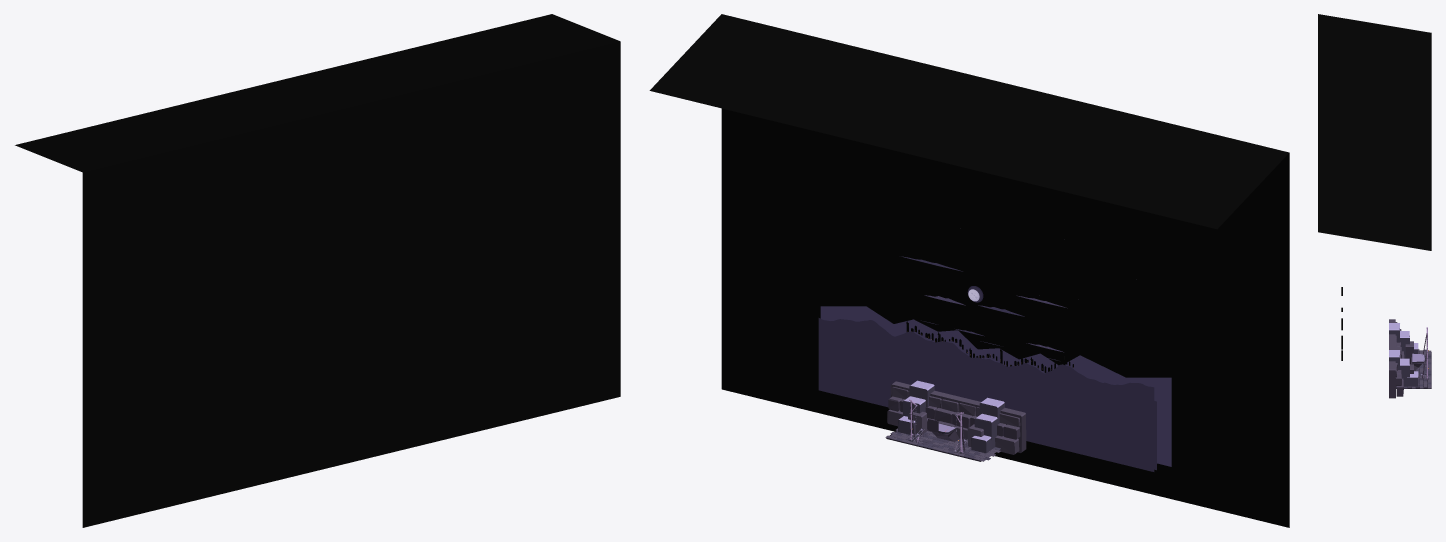
File: StoneCg_v3p.fbx
The picture shows the model from 3 angles, left to right: view 1: azimuth 30°, elevation 25°; view 2: azimuth 150°, elevation 25°; view 3: azimuth 270°, elevation 25°; orthographic projection. The views are drawn at different scales.
Parts seen in each view (by area): view 1: far_sky, far_sky_overhead; view 2: far_sky, far_sky_overhead, city_foreground_hill, far_ridge_back, floor_pavers, mid_wall_recess; view 3: far_sky_overhead, floor_pavers, mid_wall_recess, mid_shoulder_left_1, mid_shoulder_right_1, mid_shoulder_right_0, mid_shoulder_left_2, mid_shoulder_left_0.
Boxes of the visible parts, x1,y1,x2,y2 form: far_sky: (82, 41, 620, 527); far_sky_overhead: (15, 14, 619, 172); far_sky: (721, 108, 1289, 527); far_sky_overhead: (649, 14, 1289, 229); city_foreground_hill: (818, 318, 1154, 471); far_ridge_back: (820, 306, 1171, 466); floor_pavers: (885, 428, 1000, 461); mid_wall_recess: (890, 381, 1026, 452); far_sky_overhead: (1318, 14, 1431, 250); floor_pavers: (1404, 349, 1431, 388); mid_wall_recess: (1389, 319, 1395, 398); mid_shoulder_left_1: (1398, 358, 1409, 386); mid_shoulder_right_1: (1400, 331, 1409, 358); mid_shoulder_right_0: (1389, 323, 1399, 342); mid_shoulder_left_2: (1407, 371, 1418, 386); mid_shoulder_left_0: (1389, 350, 1399, 388).
Size of the model in its own units: 372 by 235 by 82.03.
